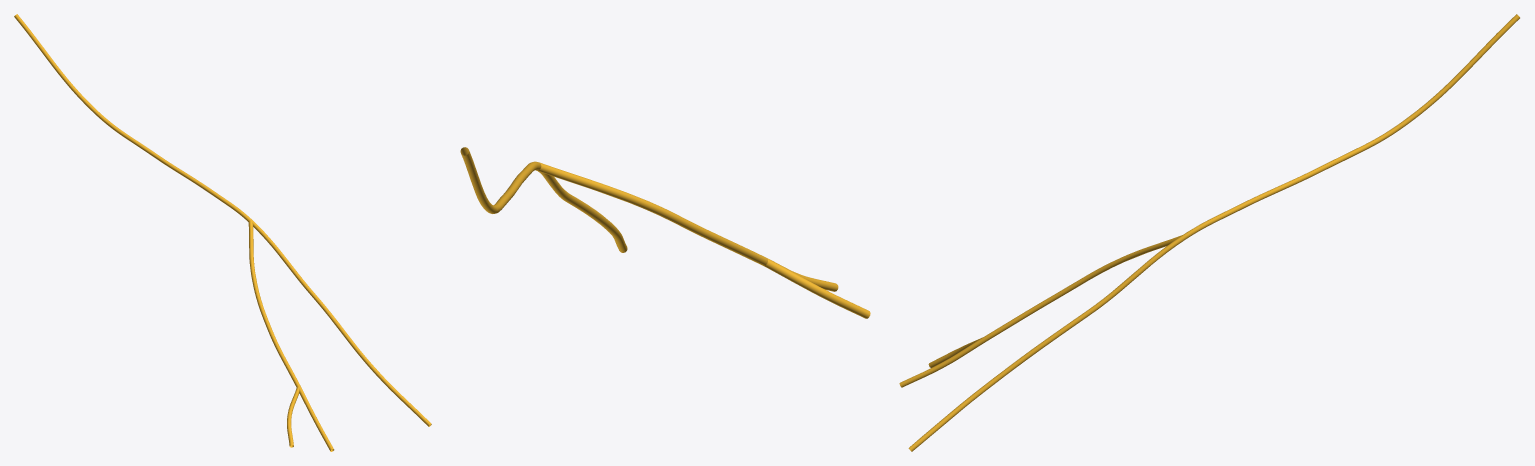
File: nervoso-medial-dorsal-cutaneous-nerve-of-foot-r.glb
3 renders of one model, left to right at view 1: azimuth 30°, elevation 25°; view 2: azimuth 150°, elevation 25°; view 3: azimuth 270°, elevation 25°, orthographic. The views are drawn at different scales.
Visible parts, largest first — view 1: Medial dorsal cutaneous nerve of foot.r; view 2: Medial dorsal cutaneous nerve of foot.r; view 3: Medial dorsal cutaneous nerve of foot.r.
Part boxes in pixels (x1,y1,x2,y2): Medial dorsal cutaneous nerve of foot.r: [14, 14, 431, 451]; Medial dorsal cutaneous nerve of foot.r: [460, 147, 870, 318]; Medial dorsal cutaneous nerve of foot.r: [899, 14, 1519, 451].
Size of the model in its own units: 0.0448 by 0.0684 by 0.1143.
